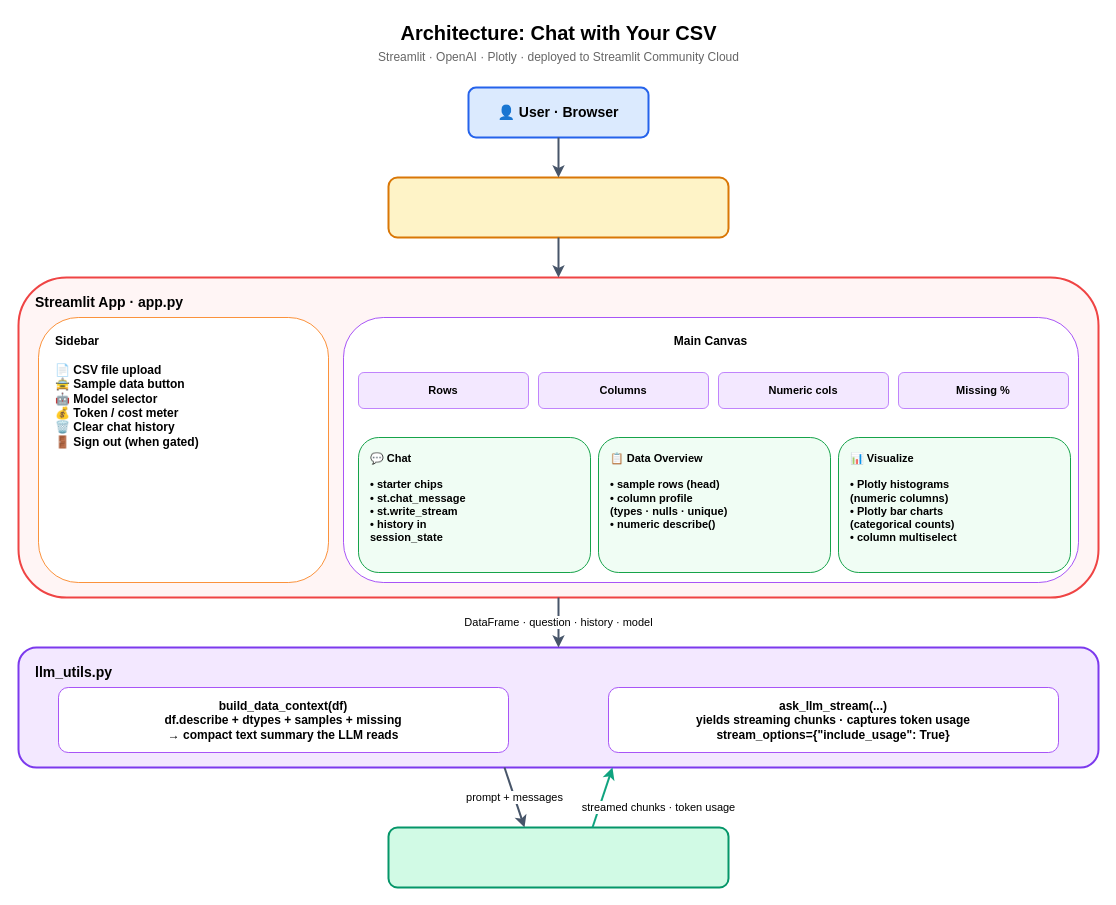
The diagram is 1116 pixels wide and 905 high, and some of its shapes have lost their labels. Each missing label, with the centre of its shape:
"🌐 OpenAI API chat completions · gpt-4o-mini · gpt-4o" belongs at point 558,857.
"🔒 Password Gate optional · APP_PASSWORD via st.secrets" belongs at point 558,207.
